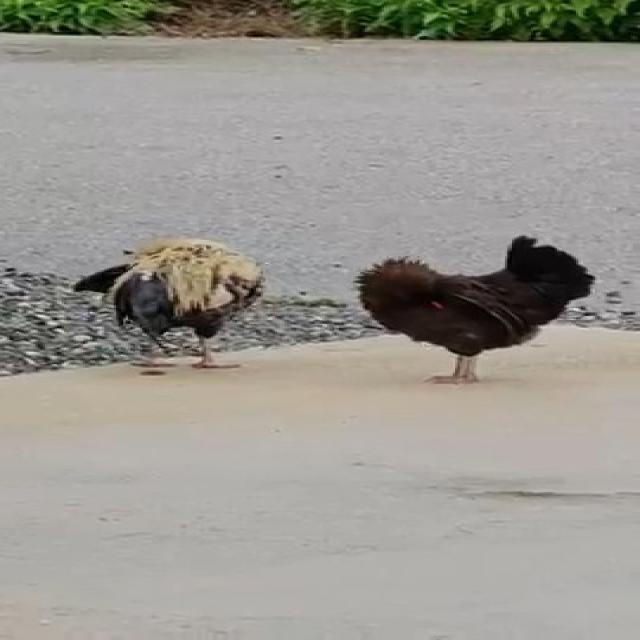self preening: (348, 228, 597, 391), (86, 226, 275, 370)
